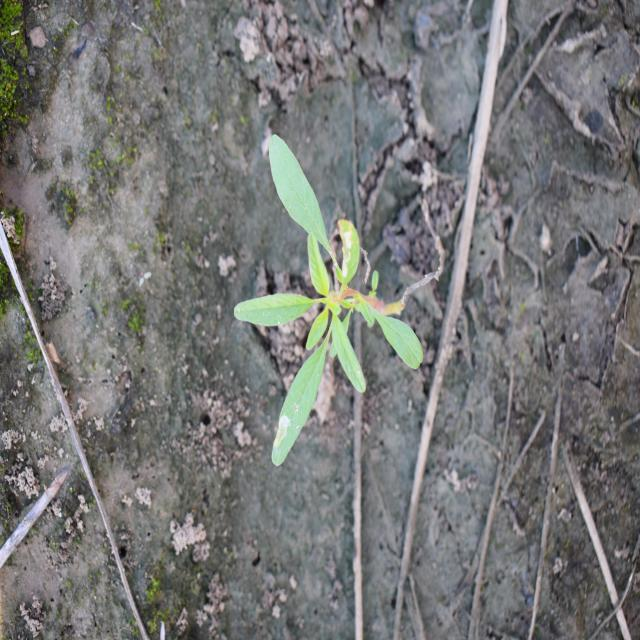Waterhemp: (232, 132, 425, 470)
